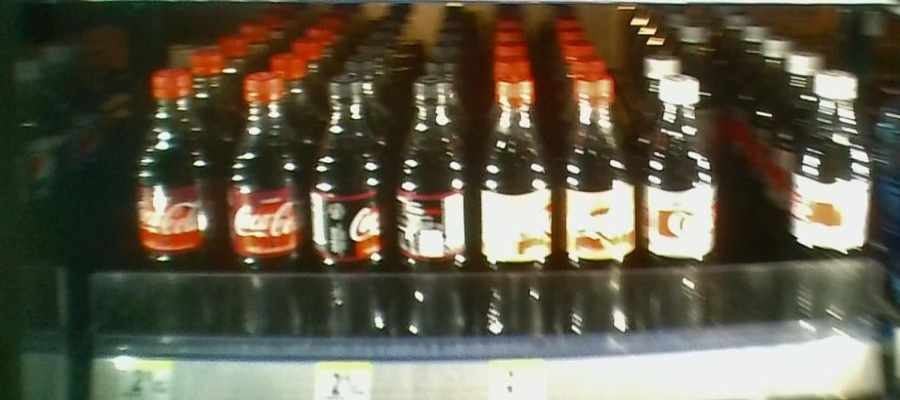bottle: (128, 60, 217, 346), (221, 66, 304, 350), (391, 72, 474, 351), (308, 71, 390, 351), (638, 60, 717, 349), (478, 65, 555, 354), (787, 70, 874, 323), (560, 71, 637, 339)
